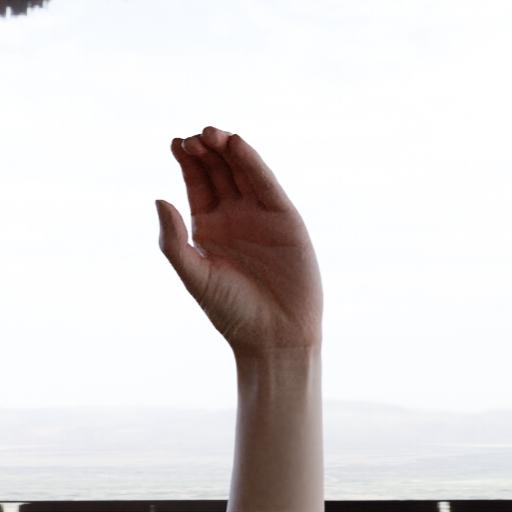C: (142, 116, 345, 366)
